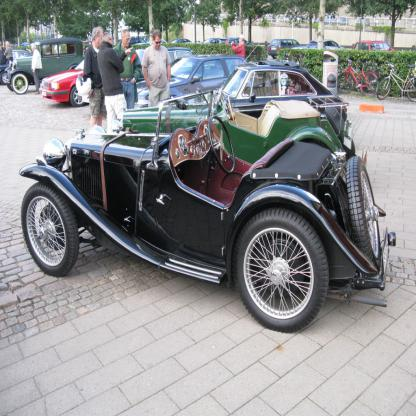Car: (0, 37, 398, 333)
